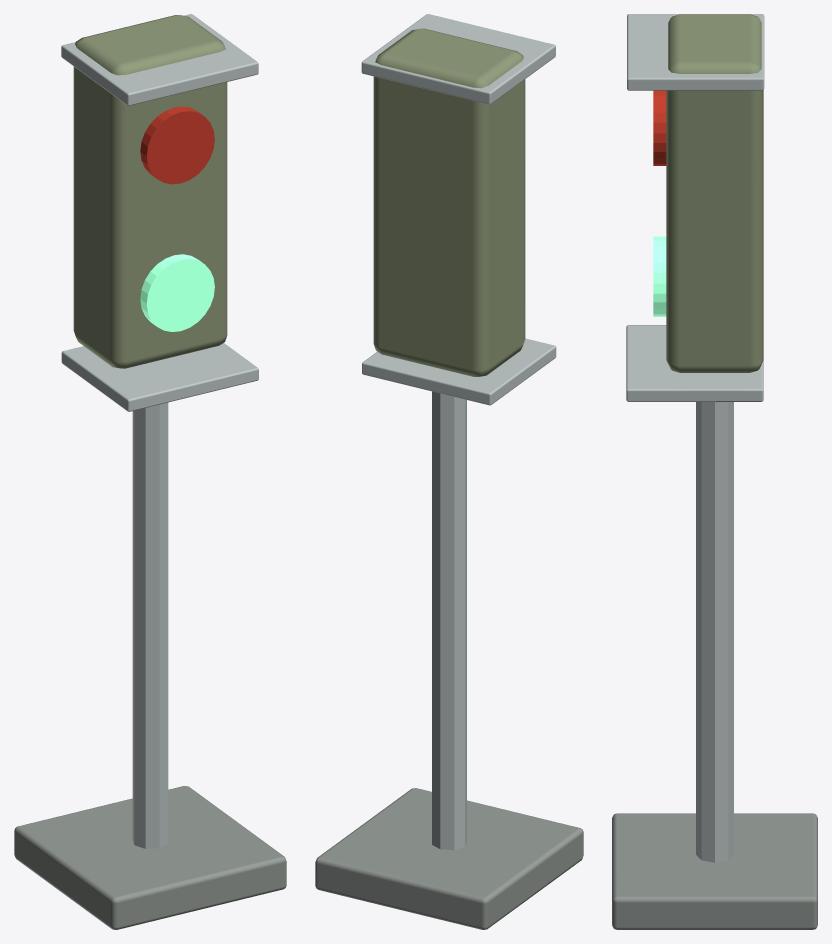
File: mountain-border-checkpoint-mountain-border-checkpoint--8e941b22__30319.glb
The picture shows the model from 3 angles, left to right: view 1: azimuth 30°, elevation 25°; view 2: azimuth 150°, elevation 25°; view 3: azimuth 270°, elevation 25°; orthographic projection. The views are drawn at different scales.
Visible parts, largest first — view 1: mountain-border-checkpoint-vehicle-stop-lamp; view 2: mountain-border-checkpoint-vehicle-stop-lamp; view 3: mountain-border-checkpoint-vehicle-stop-lamp.
Boxes of the visible parts, x1,y1,x2,y2 form: mountain-border-checkpoint-vehicle-stop-lamp: (14,14,286,929); mountain-border-checkpoint-vehicle-stop-lamp: (315,14,583,929); mountain-border-checkpoint-vehicle-stop-lamp: (612,14,817,929).
Bounding box in the file's own units: 0.36 × 1.64 × 0.36.
